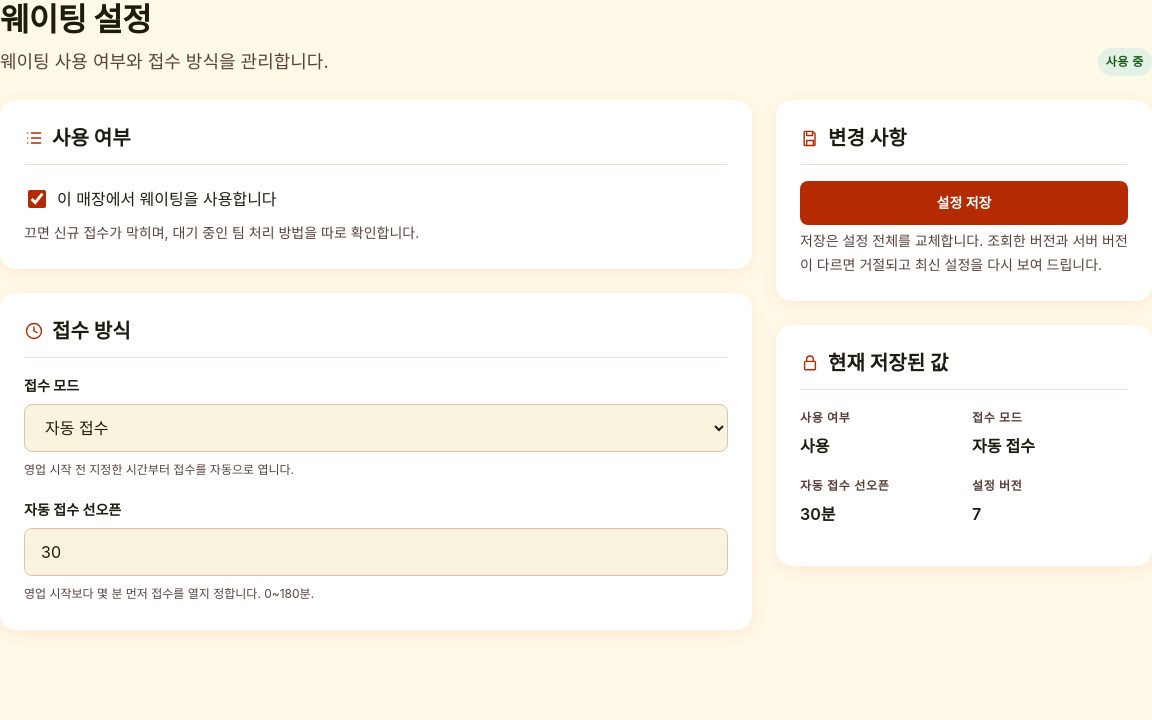
Test: 웨이팅 설정 화면 › version 충돌이면 입력을 지우지 않고 최신 설정을 다시 읽는다
Replace the text in the number field labelled "자동 접수 선오픈" with "45": (376, 552) [24, 528, 728, 576]
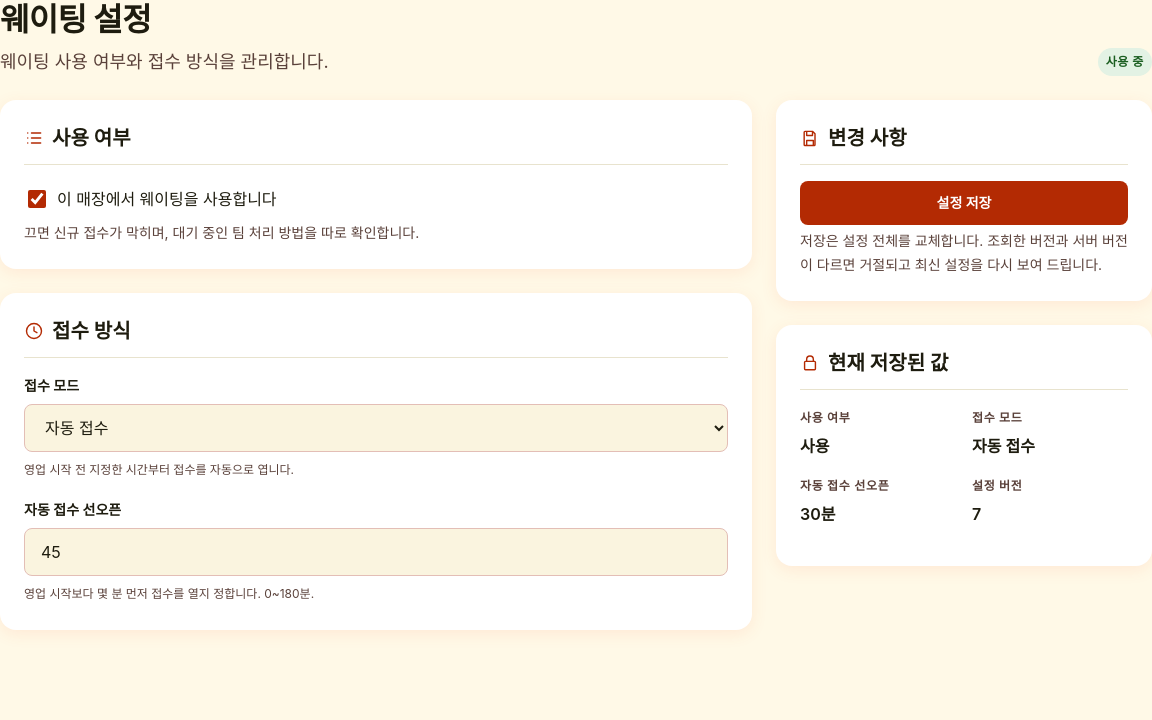
Click the button "설정 저장": (964, 203) [800, 181, 1128, 225]
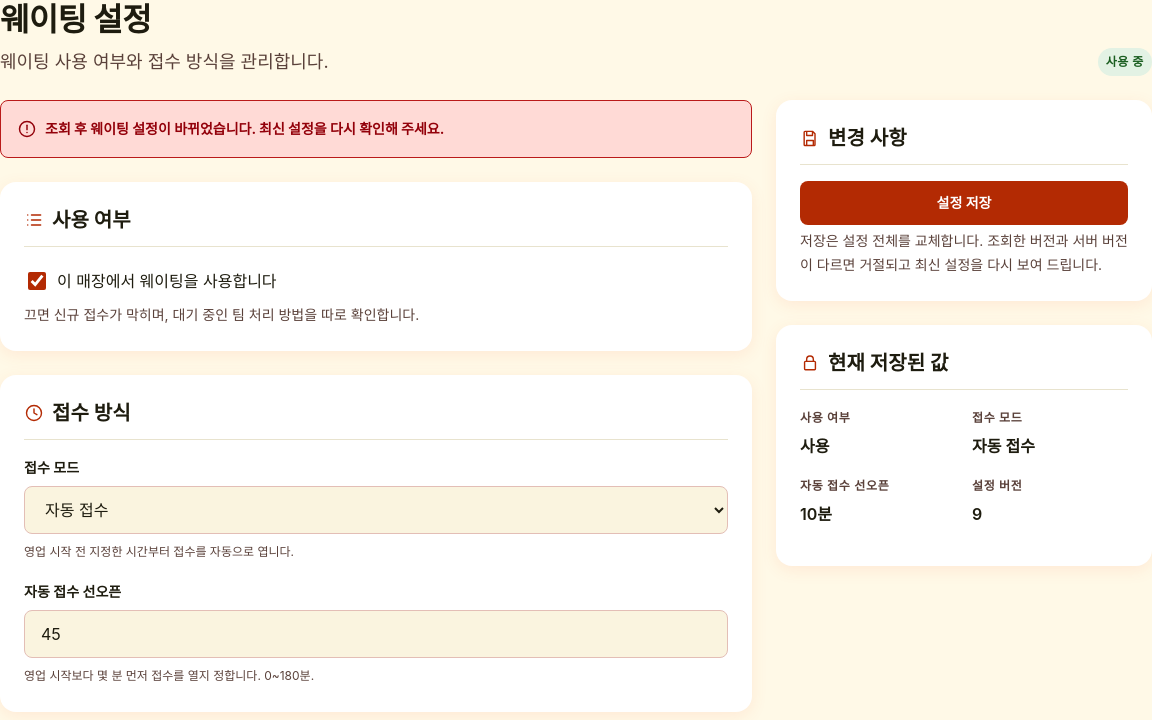
Now the text "조회 후 웨이팅 설정이 바뀌었습니다. 최신 설정을 다시 확인해 주세요." is shown, box [45, 120, 444, 137]
